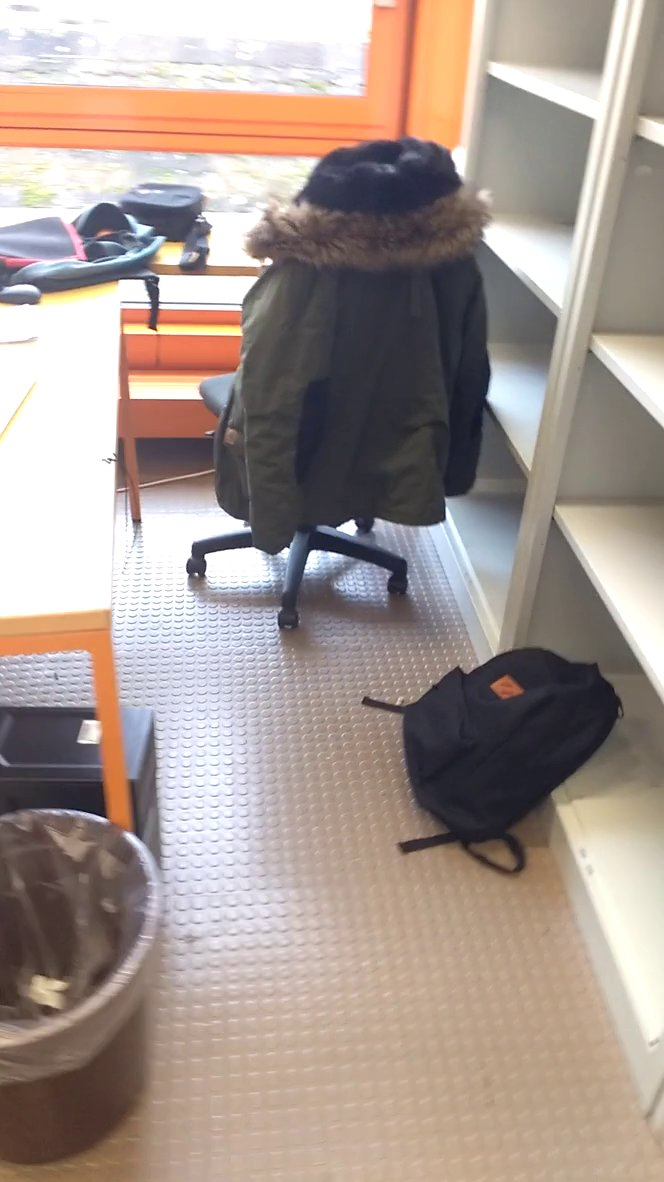bag: (337, 636, 627, 881)
